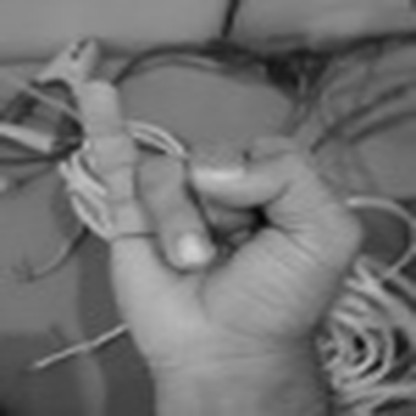i: (71, 74, 370, 368)
